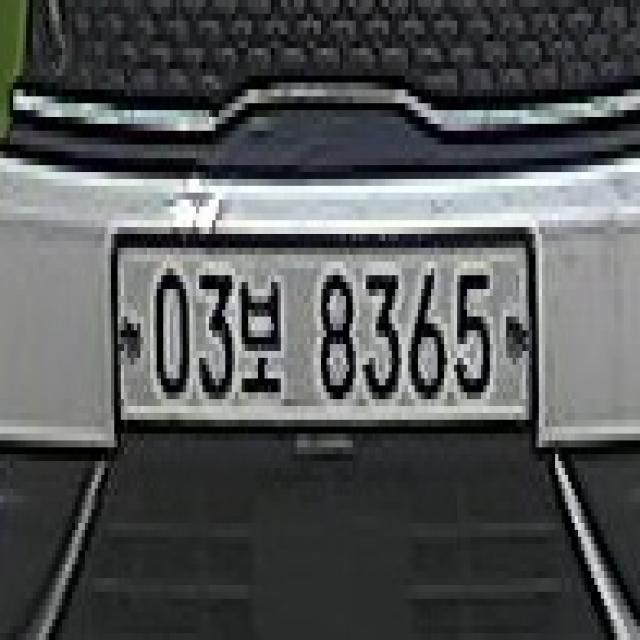0: (153, 258, 192, 412)
3: (354, 260, 404, 410), (197, 264, 241, 408)
5: (451, 251, 503, 411)
6: (409, 262, 446, 413)
8: (314, 266, 354, 411)
bo: (242, 267, 298, 409)
license_plate: (79, 208, 546, 447)
